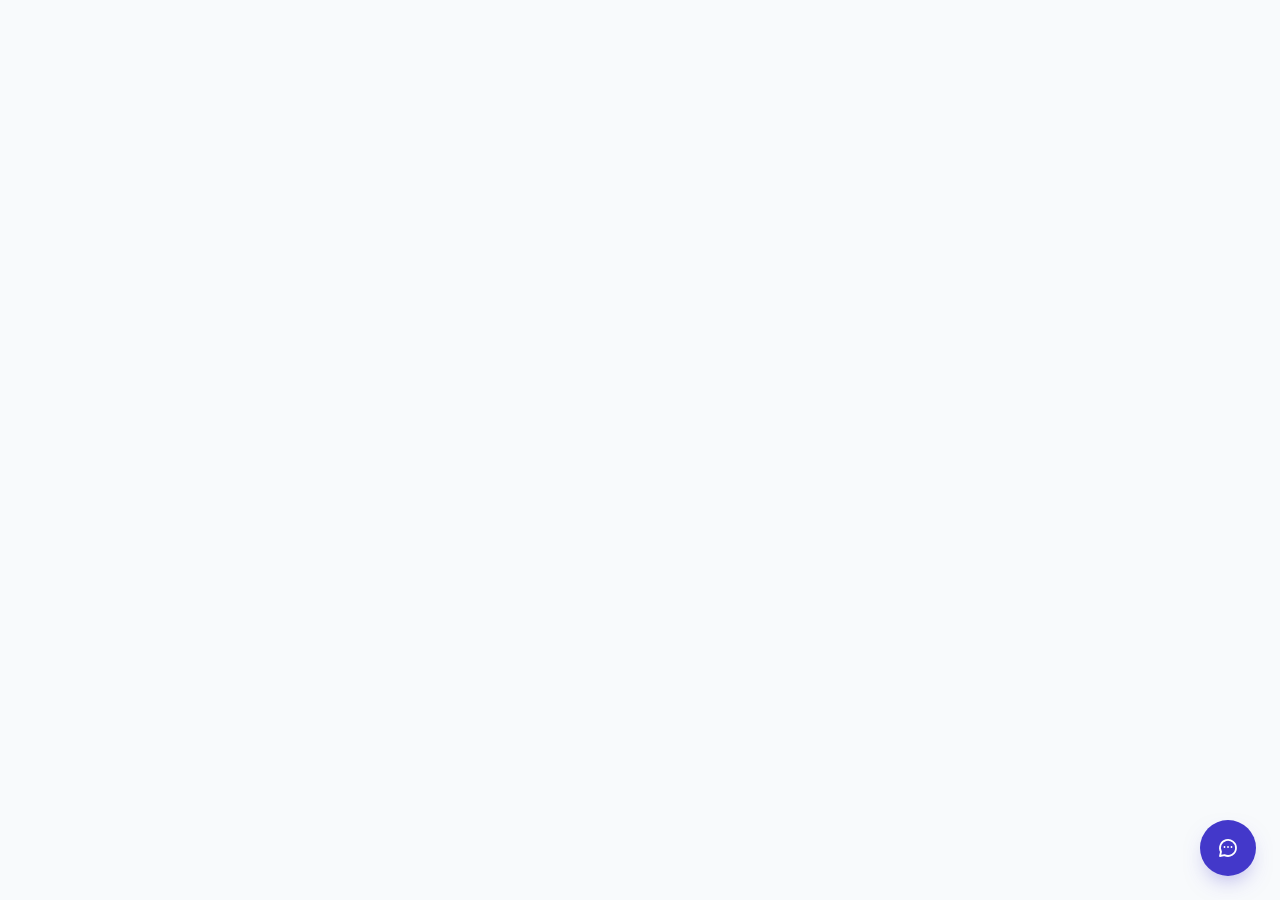
Scenario: Enter sends; the answer shows with portfolio citations; follow-ups reuse the session
Later steps or results of the test are not shown.
Click the button named "Ask PortfolioAI about Irfan's work".
click(1228, 848)  # box [1200,820,1256,876]
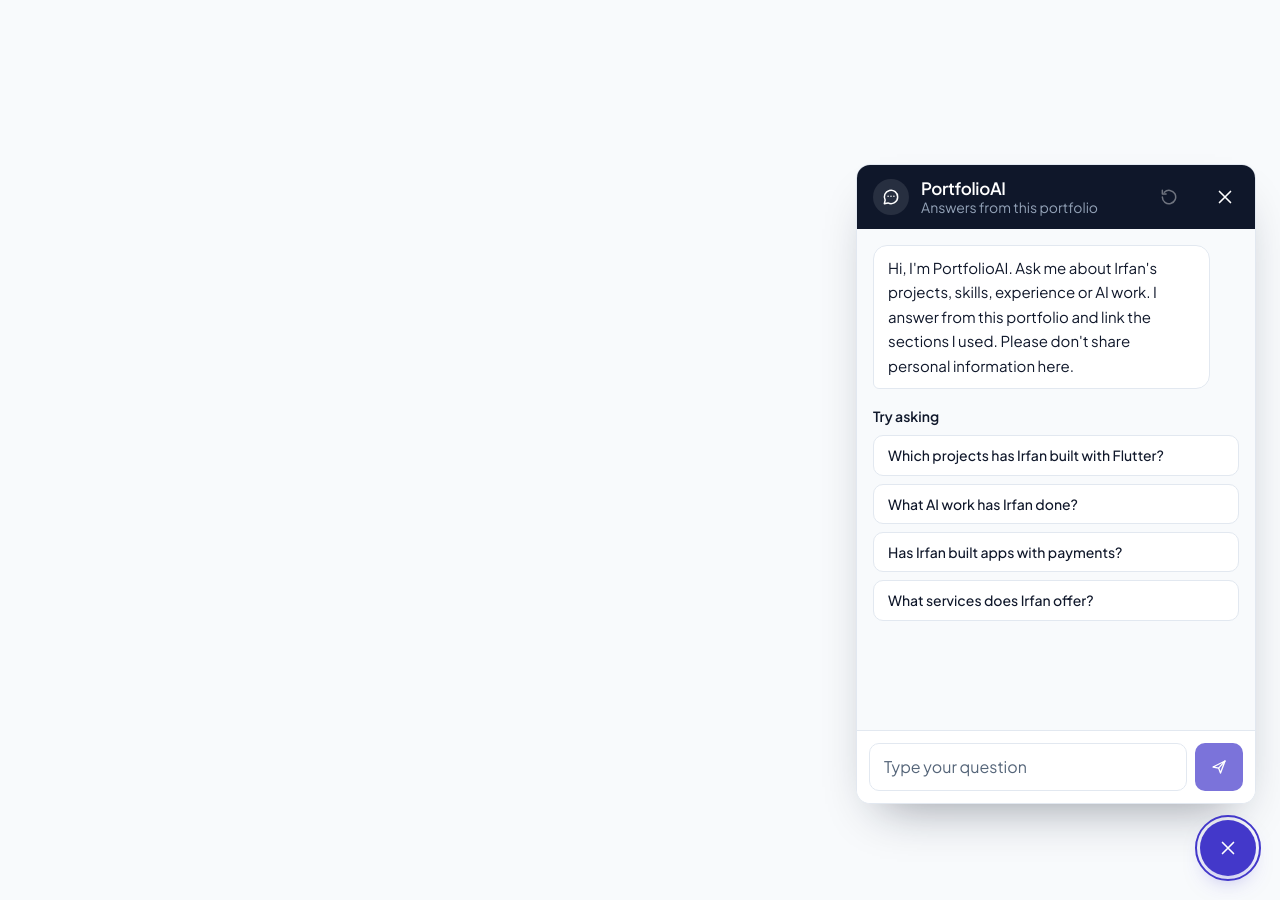
Type "Has Irfan built a healthcare app?" into the text box labelled "your question".
click(1028, 767); type("Has Irfan built a healthcare app?")  # box [869,743,1187,791]
Then press Enter
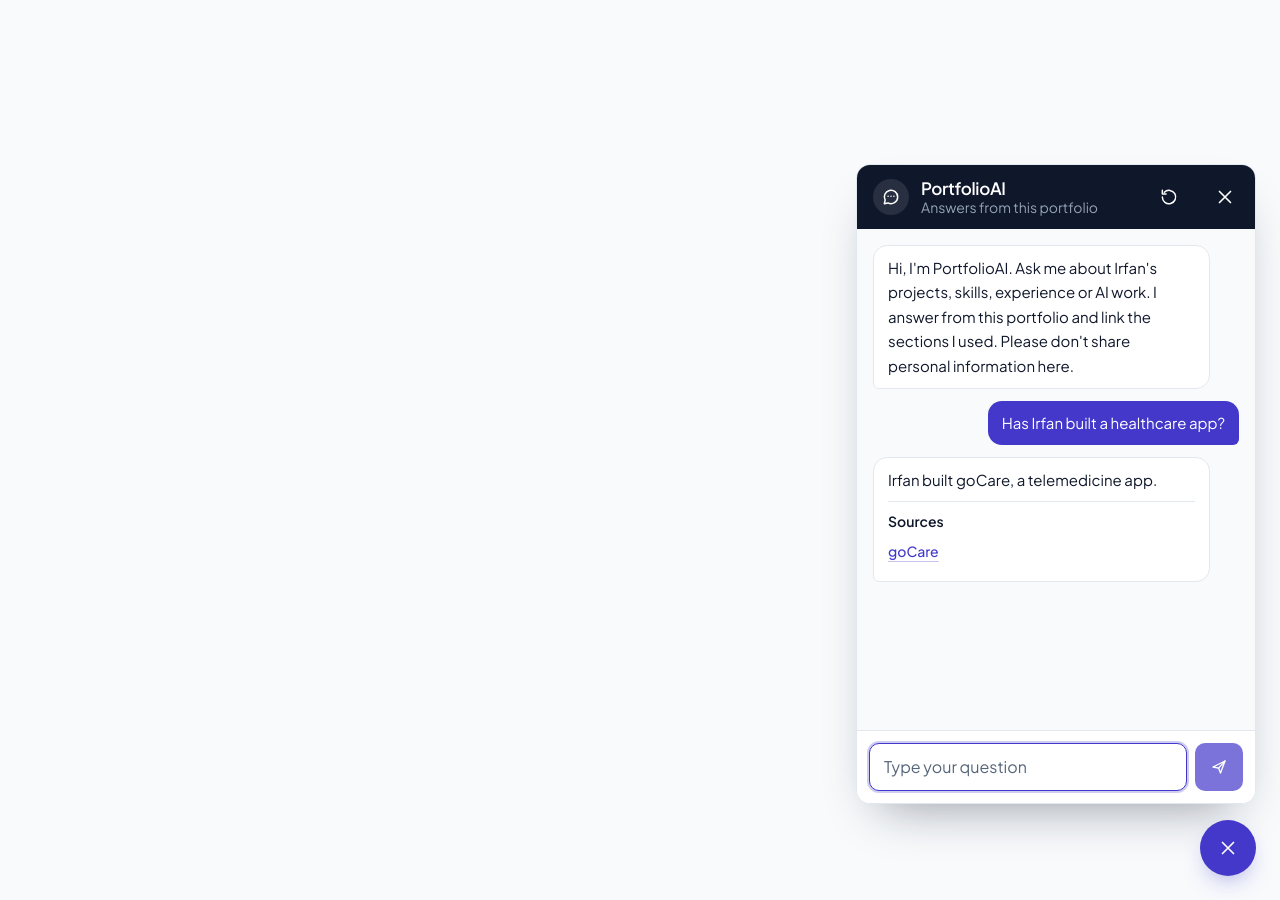
Expected: the text "Irfan built goCare, a telemedicine app." is shown, [888,468,1195,493]
Type "Which payment provider did it use?" into the text box labelled "your question".
click(1028, 767); type("Which payment provider did it use?")  # box [869,743,1187,791]
Then press Enter
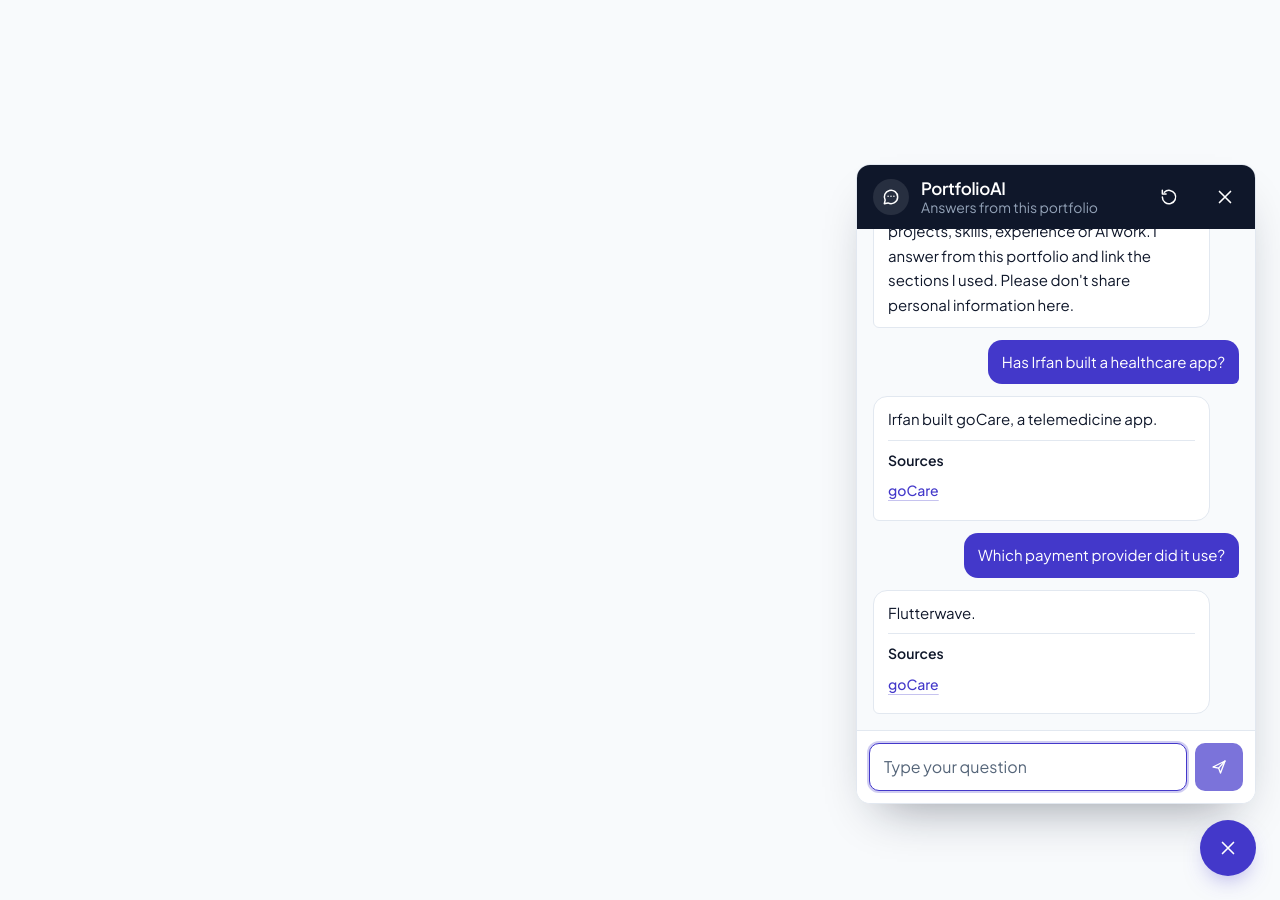
Expected: the text "Flutterwave." is shown, [888,602,976,622]
